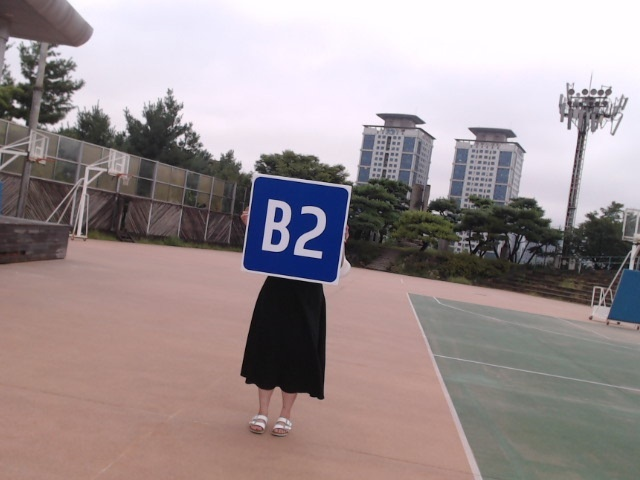delivery_b2: (241, 175, 350, 284)
